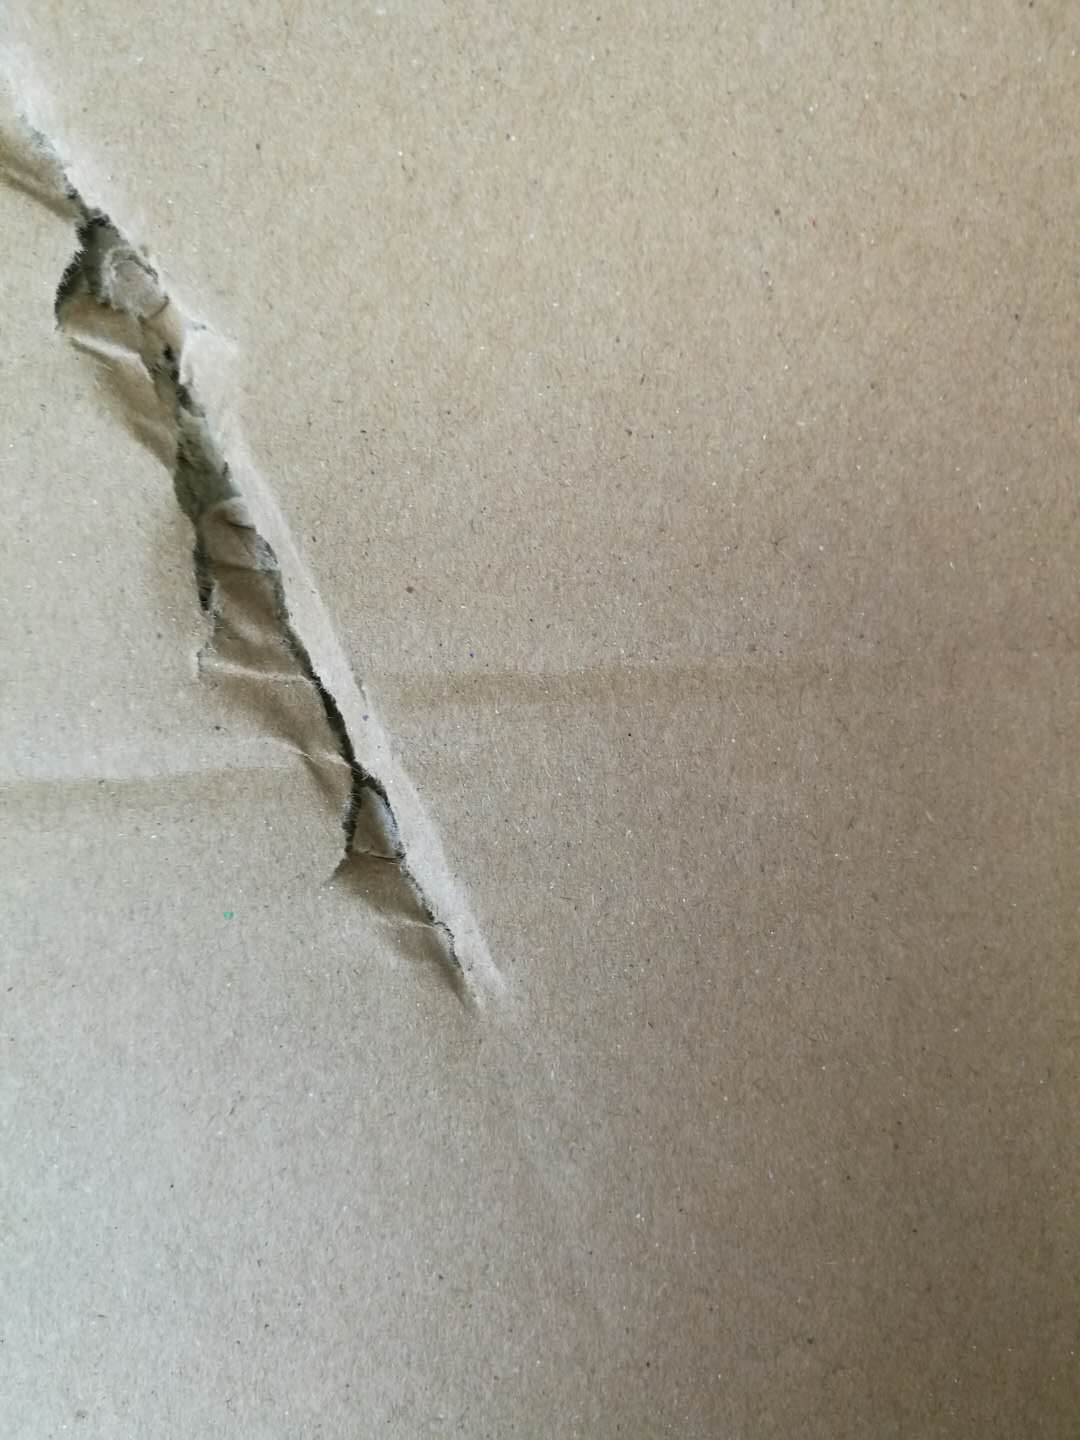defect: (2, 33, 589, 1219), (363, 601, 1080, 751)
